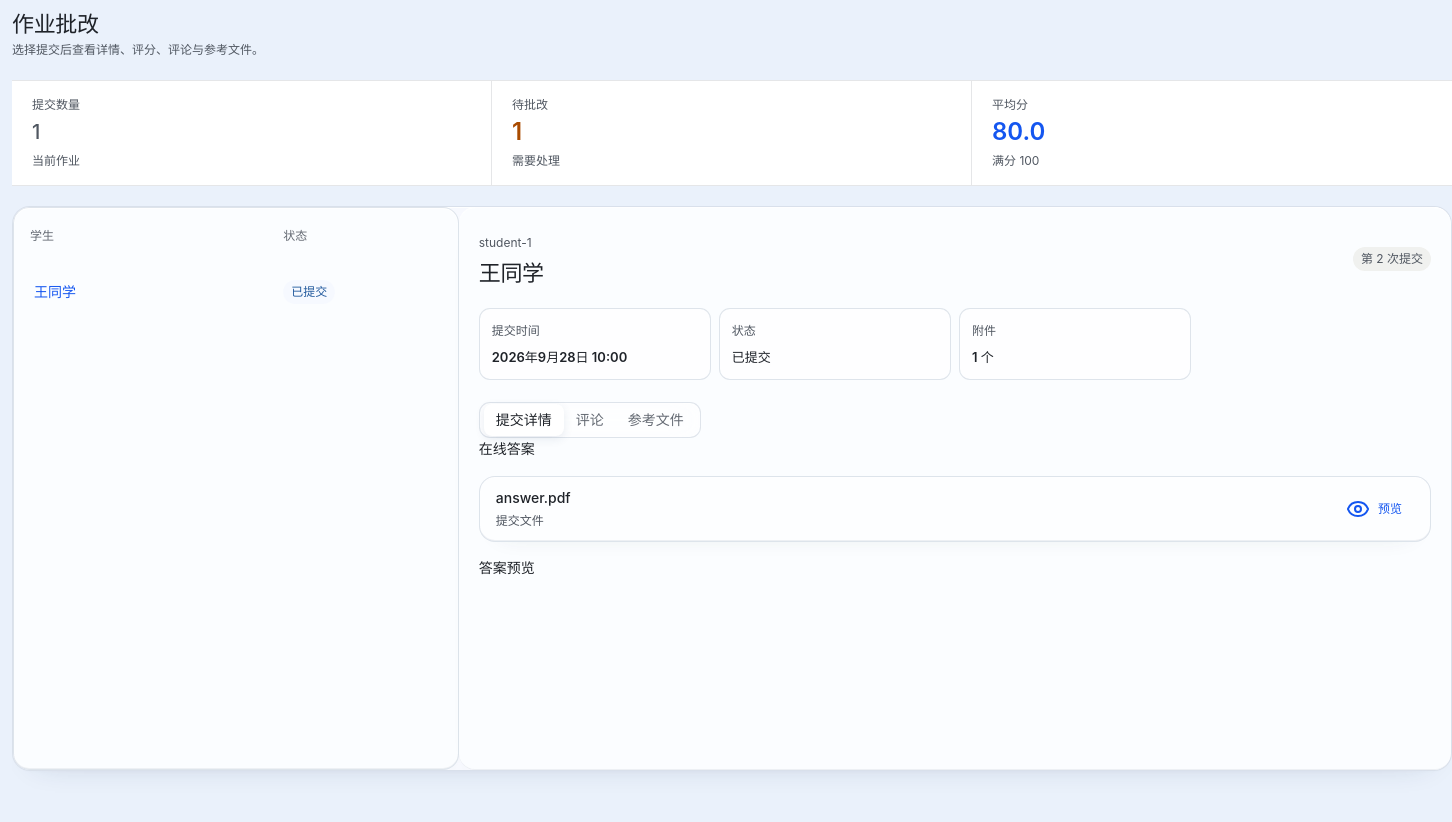
Test case: GradingView › shows submission detail, comments and reference status
Check: the text "在线答案" is shown, box [479,440,535,457]
Press the mouse on the tab "评论" at {"x": 590, "y": 420}, box [564,404,616,436]
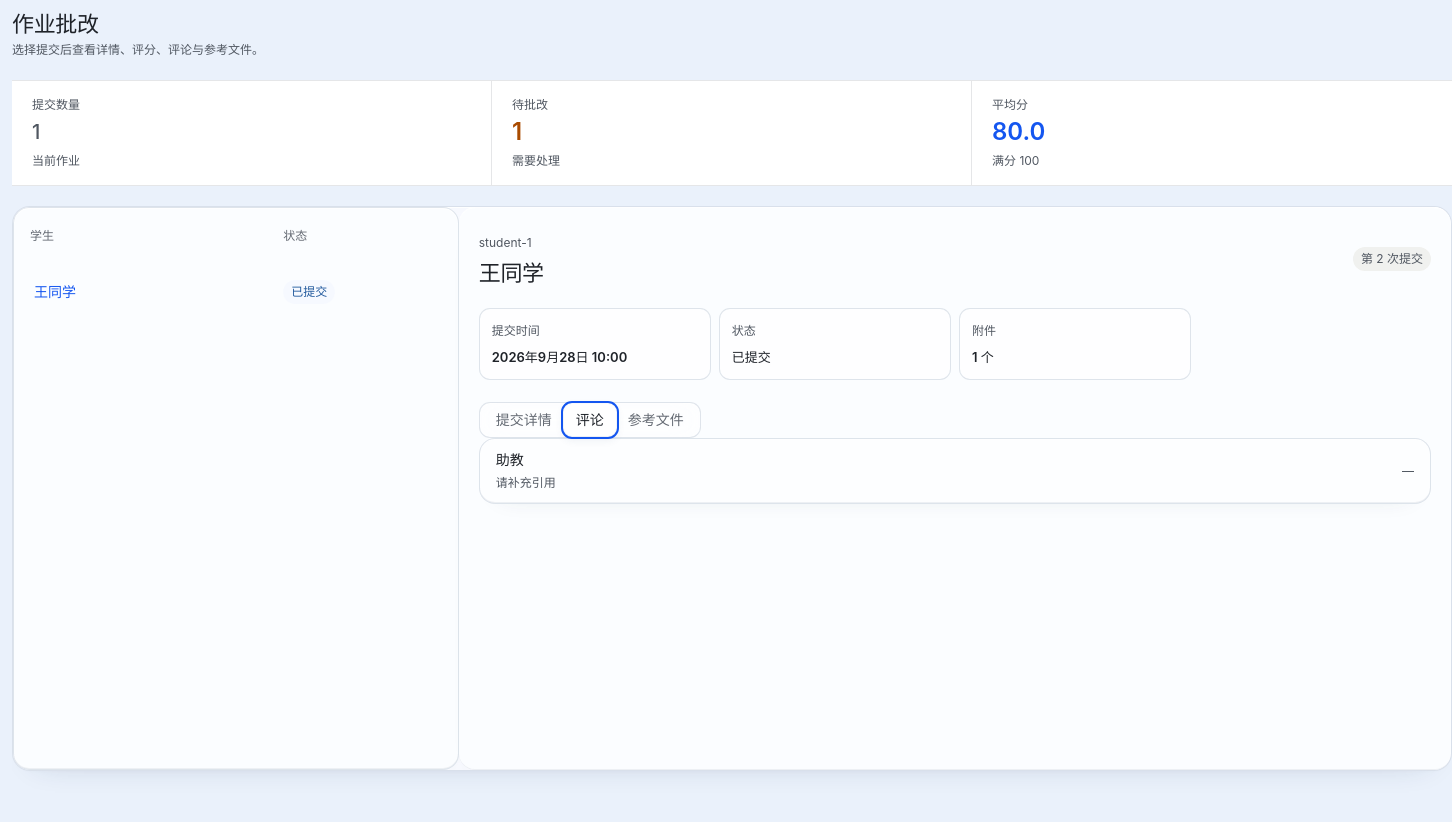
Check: the text "请补充引用" is shown, box [496,475,556,490]
Press the mouse on the tab "参考文件" at {"x": 656, "y": 420}, box [616,404,696,436]
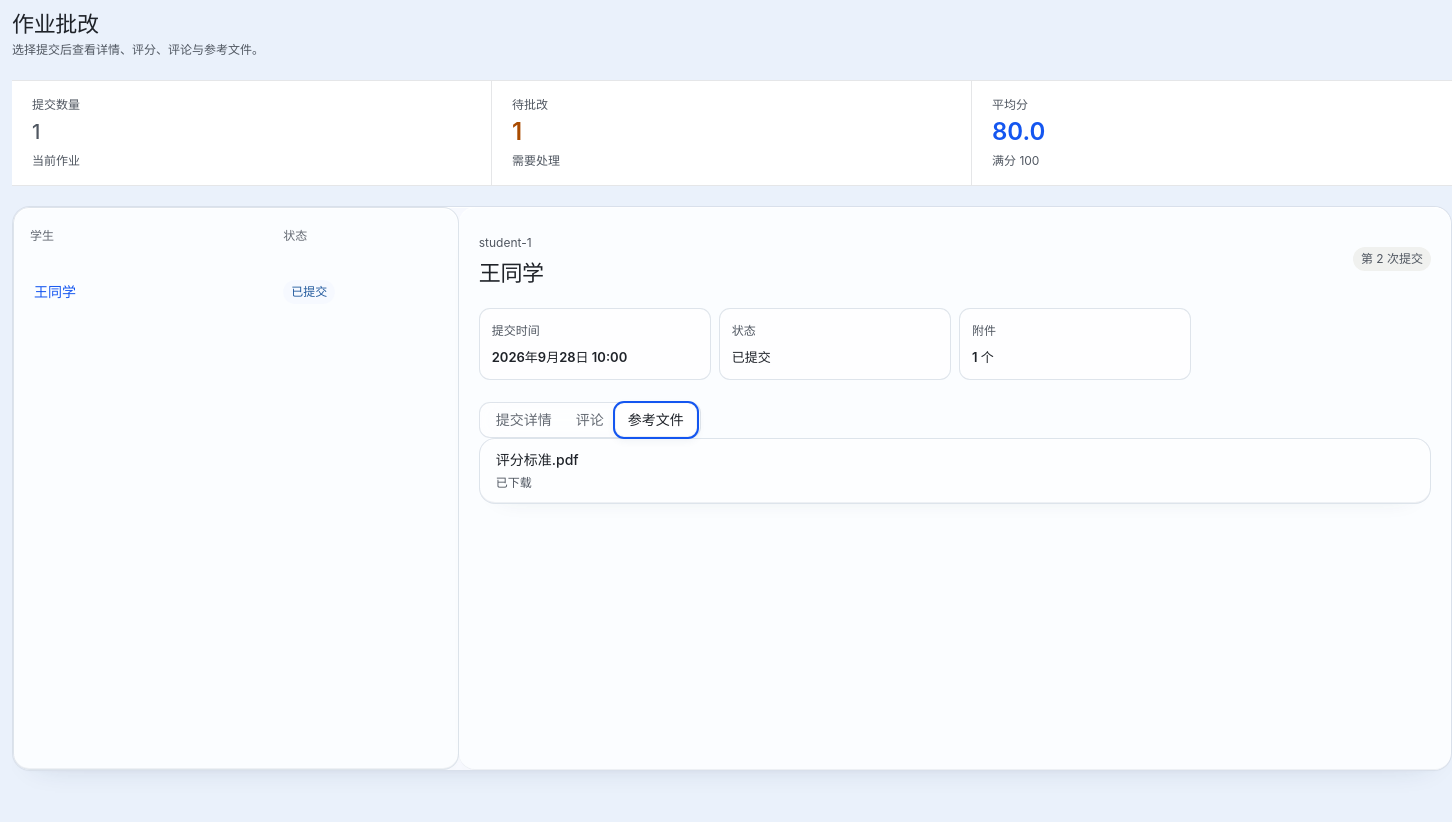
Check: the text "评分标准.pdf" is shown, box [496,449,579,471]
Check: the text "已下载" is shown, box [496,475,532,490]
